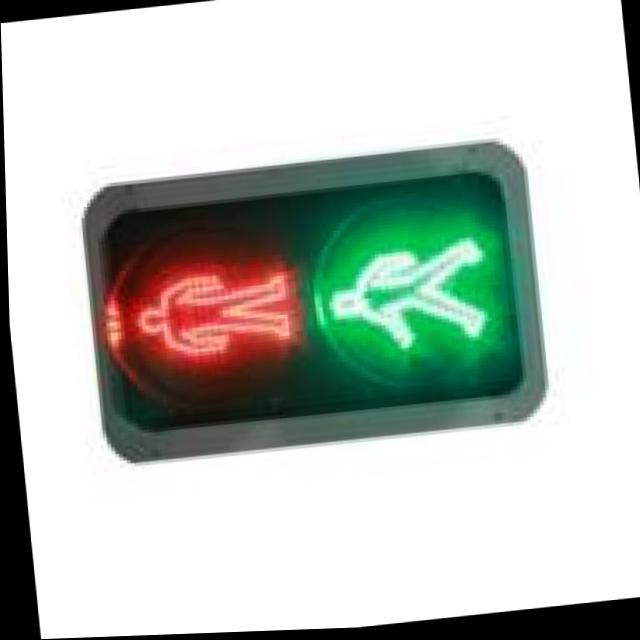green_light: (275, 95, 627, 443)
red_light: (2, 88, 350, 514)
